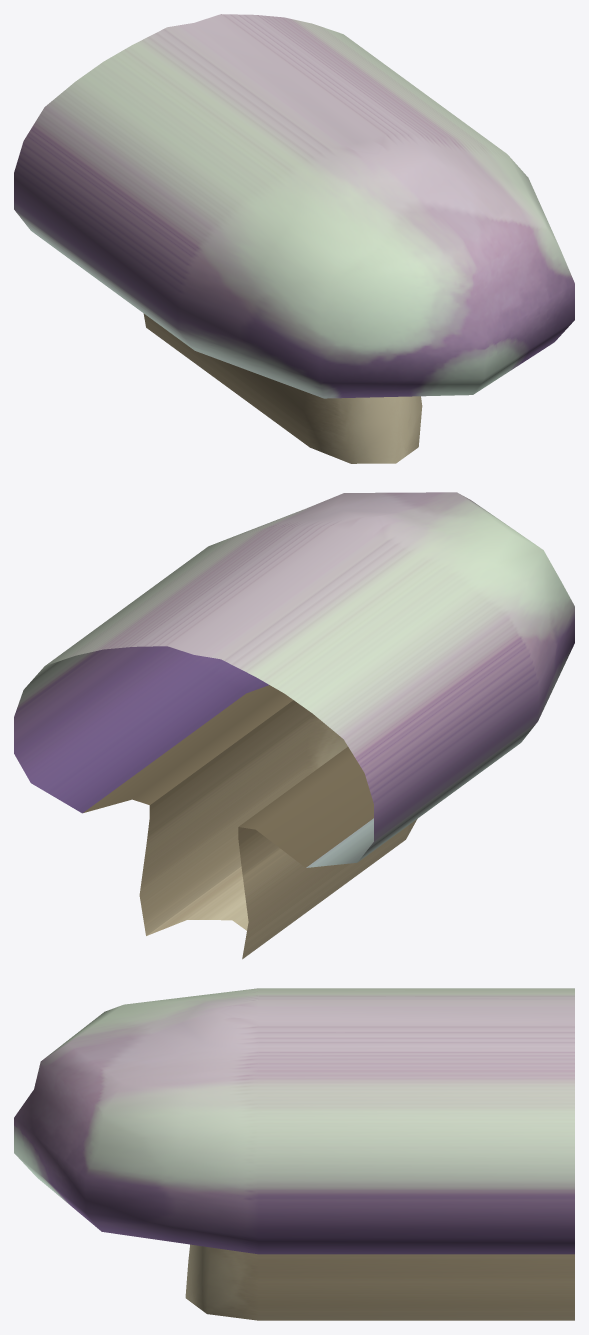
The model's file is 0217_kinoko05.fbx.
The picture shows the model from 3 angles, top to bottom: view 1: azimuth 30°, elevation 25°; view 2: azimuth 150°, elevation 25°; view 3: azimuth 270°, elevation 25°; orthographic projection. The views are drawn at different scales.
Parts seen in each view (by area): view 1: _0216_kinoko05:cylinder2; view 2: _0216_kinoko05:cylinder2; view 3: _0216_kinoko05:cylinder2.
Boxes of the visible parts, box(x1,y1,x2,y2) form: _0216_kinoko05:cylinder2: box(14, 14, 574, 463); _0216_kinoko05:cylinder2: box(14, 492, 574, 959); _0216_kinoko05:cylinder2: box(14, 988, 574, 1320).
Bounding box in the file's own units: 16.3 × 12.83 × 22.8.
